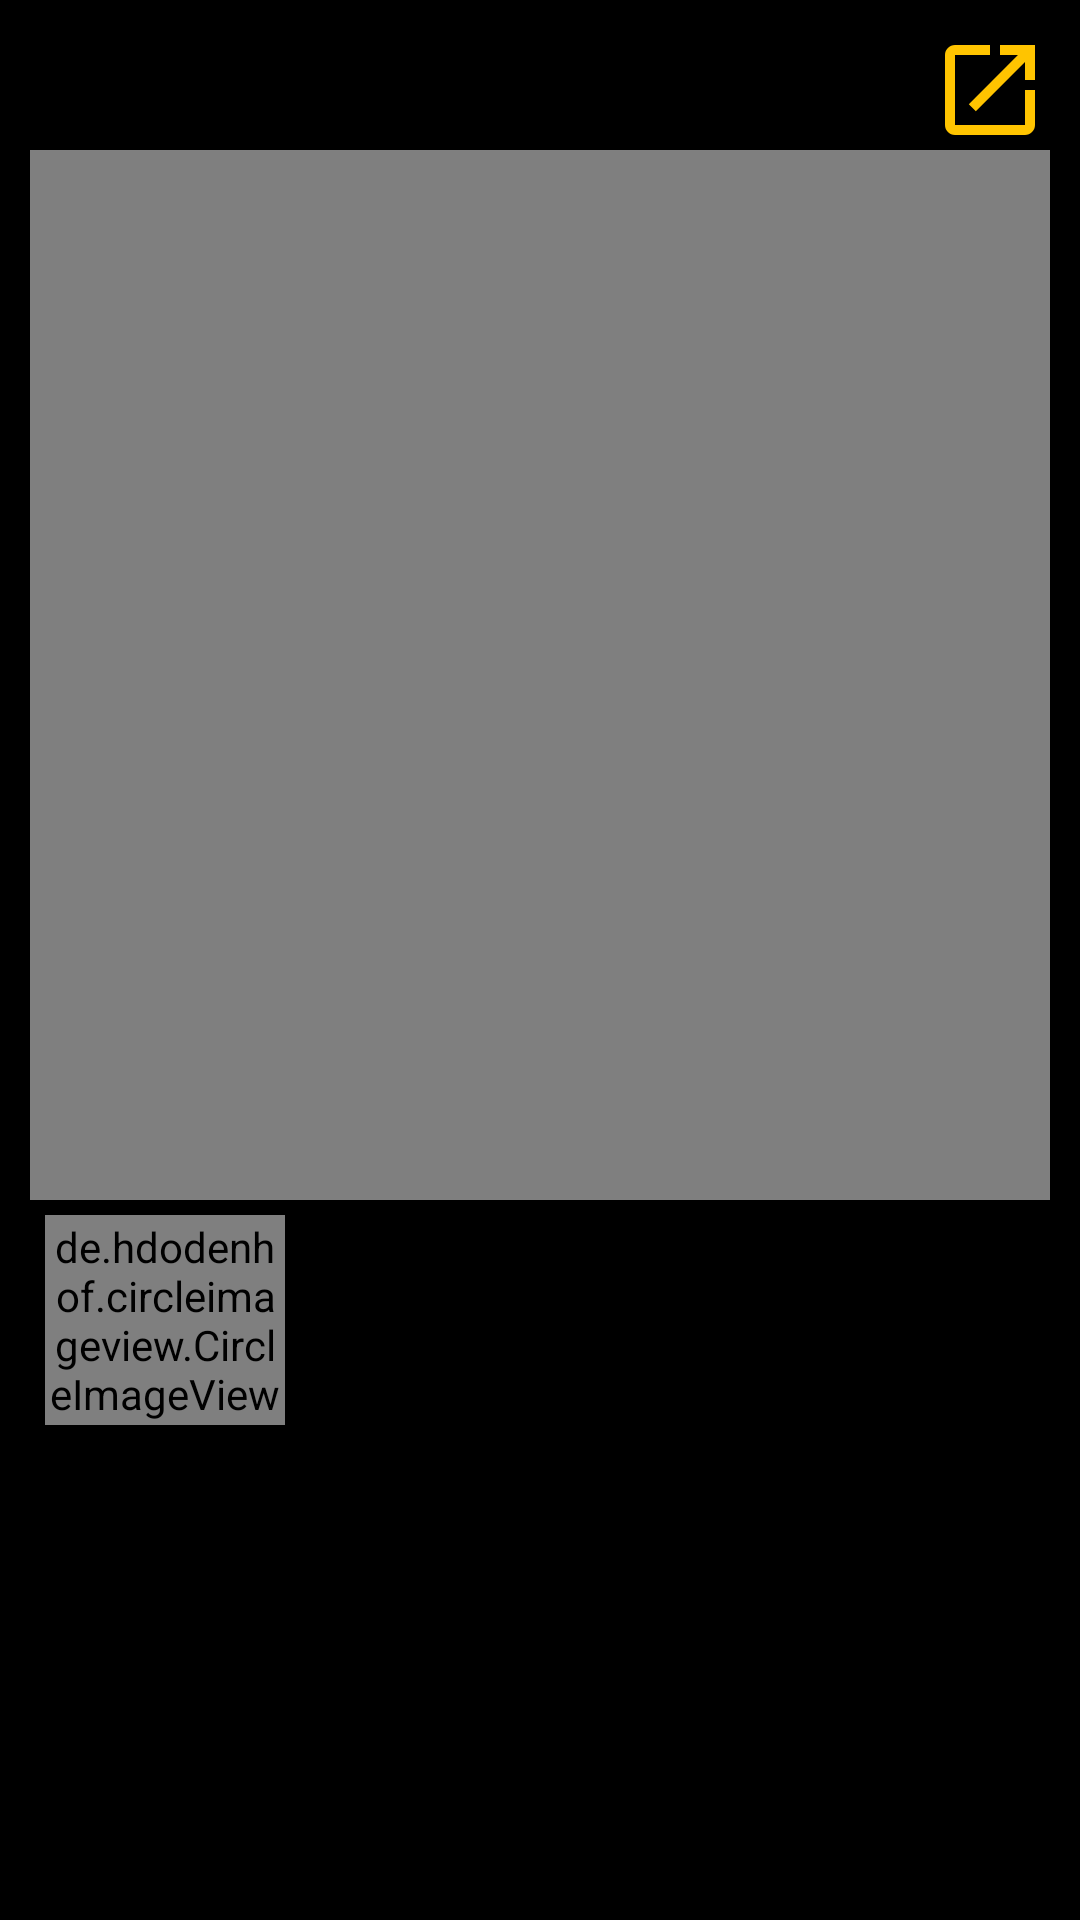

Where to tap for icons on this 1080 × 1920 app screen, as (x=x, y=y):
open link: (x=990, y=90)
